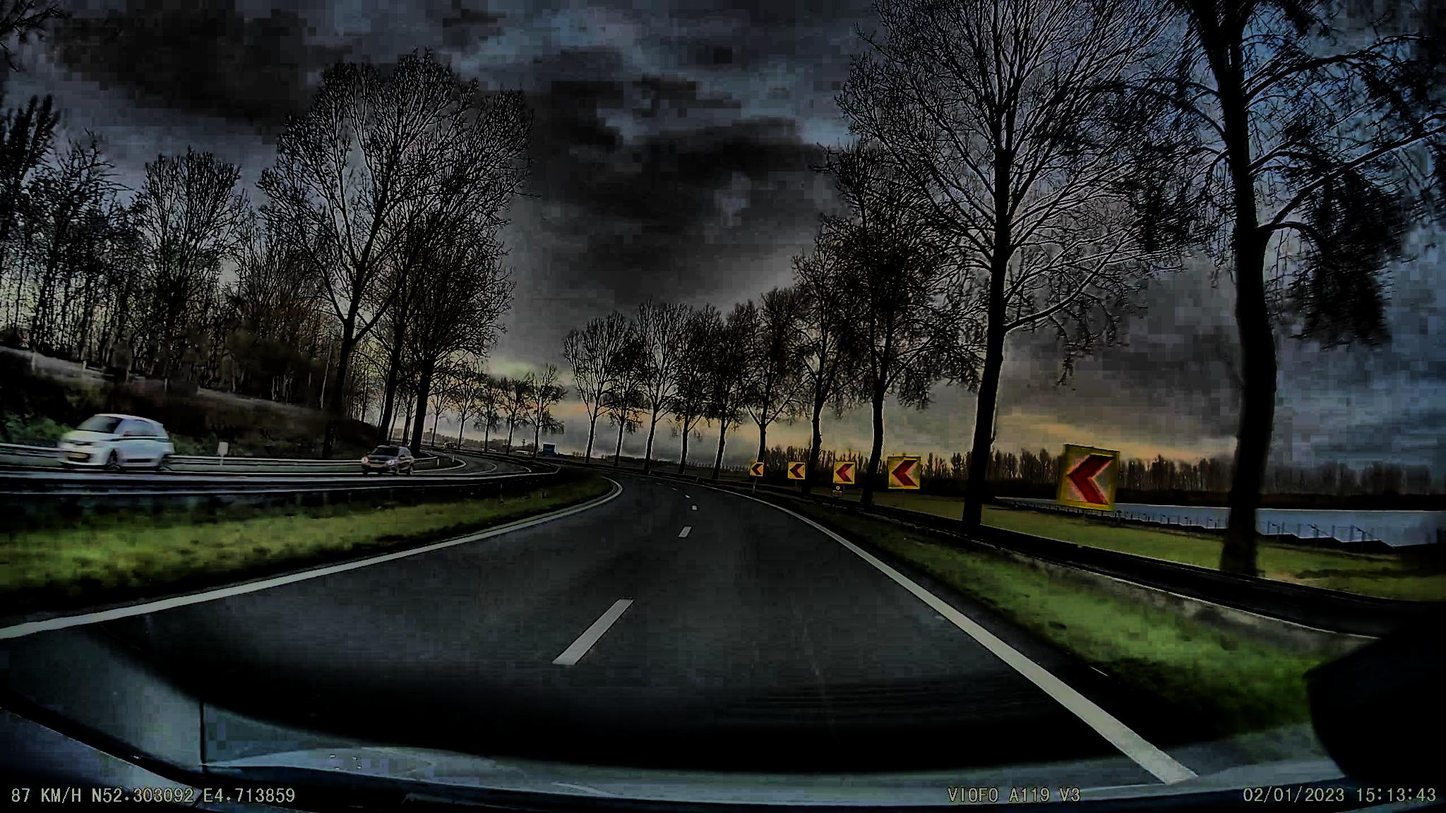Roads: (0, 470, 1446, 813)
